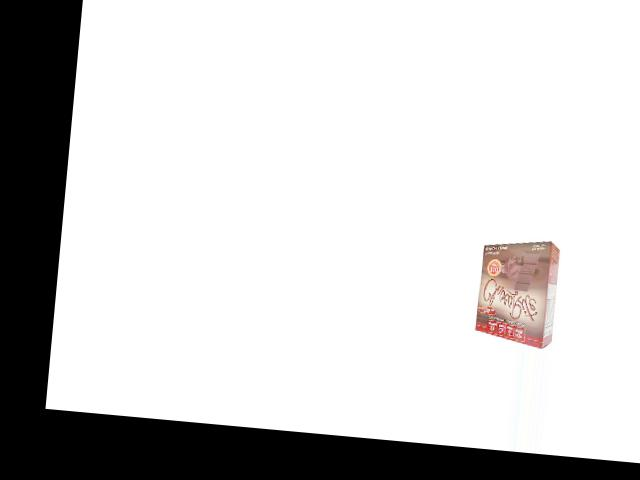chocolate: (472, 235, 560, 346)
